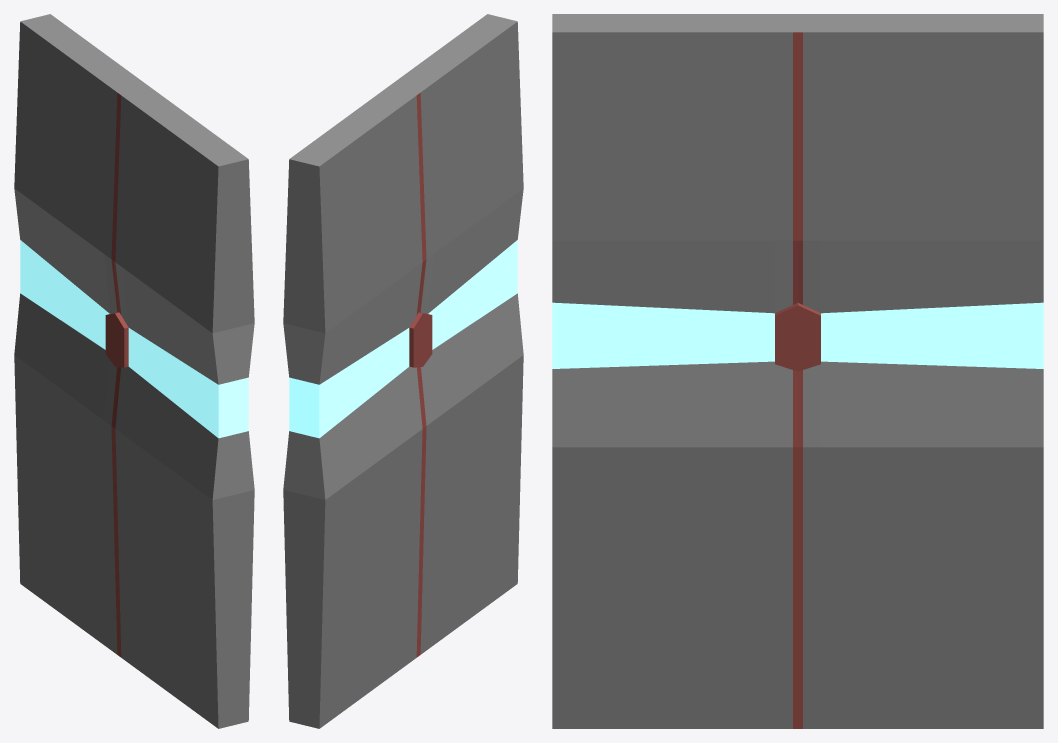
File: SciFiDoors1.fbx
3 views of the same model, side by side, from view 1: azimuth 30°, elevation 25°; view 2: azimuth 150°, elevation 25°; view 3: azimuth 270°, elevation 25° (orthographic). The views are drawn at different scales.
Visible parts, largest first — view 1: SciFiDoor, SciFiDoor.001; view 2: SciFiDoor.001, SciFiDoor; view 3: SciFiDoor.001, SciFiDoor.
Boxes of the visible parts, <box> form: SciFiDoor: <box>113,86,254,728</box>; SciFiDoor.001: <box>14,14,149,655</box>; SciFiDoor.001: <box>283,86,424,728</box>; SciFiDoor: <box>388,14,523,655</box>; SciFiDoor.001: <box>798,14,1043,728</box>; SciFiDoor: <box>552,14,797,728</box>.
Bounding box in the file's own units: 38.39 × 490 × 313.
